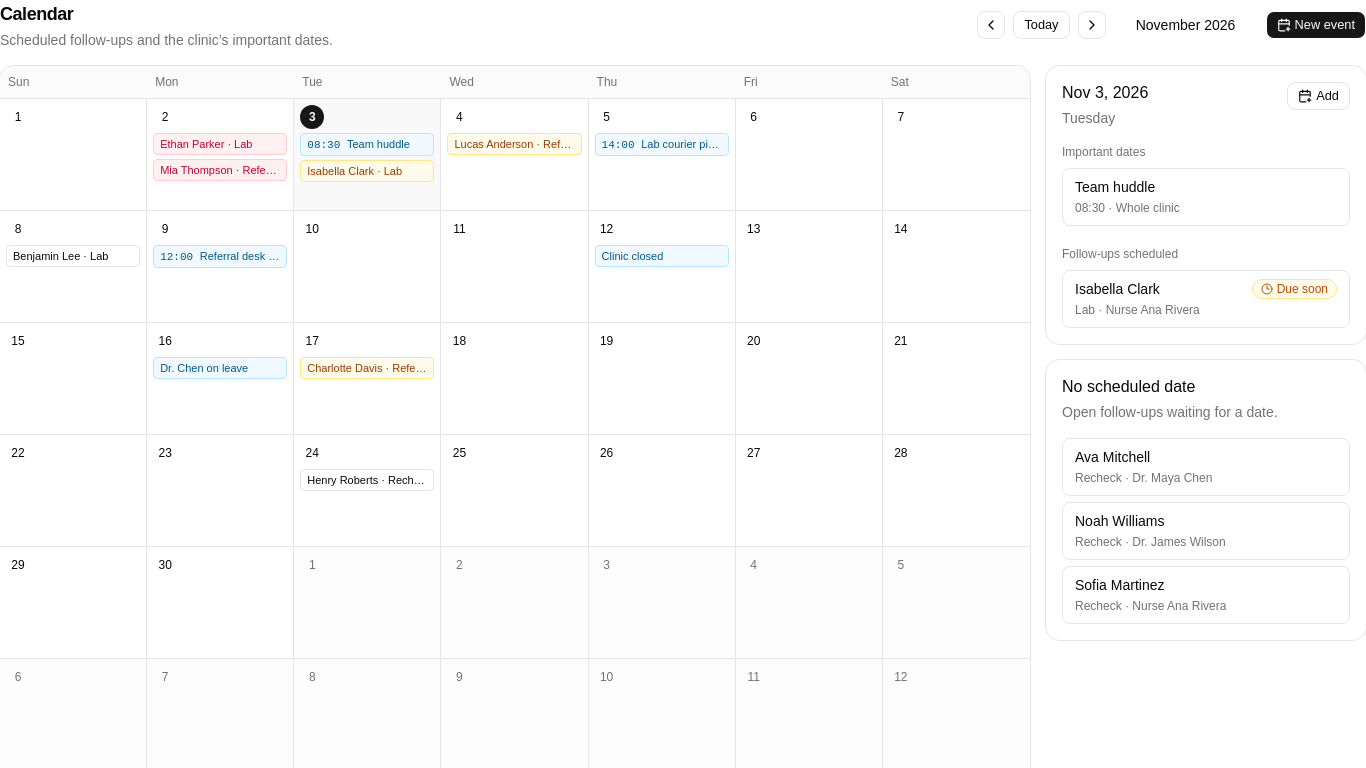
Scenario: Calendar › shows the sample month, today's important dates, and follow-ups without a date
The width and height of the screenshot is (1366, 768).
Expected: the heading "Calendar" is shown, left=0, top=4, right=73, bottom=24
Expected: the button "08:30 Team huddle" is shown, left=300, top=133, right=434, bottom=156
Click the button "New event": [1316, 25] box left=1266, top=11, right=1365, bottom=39
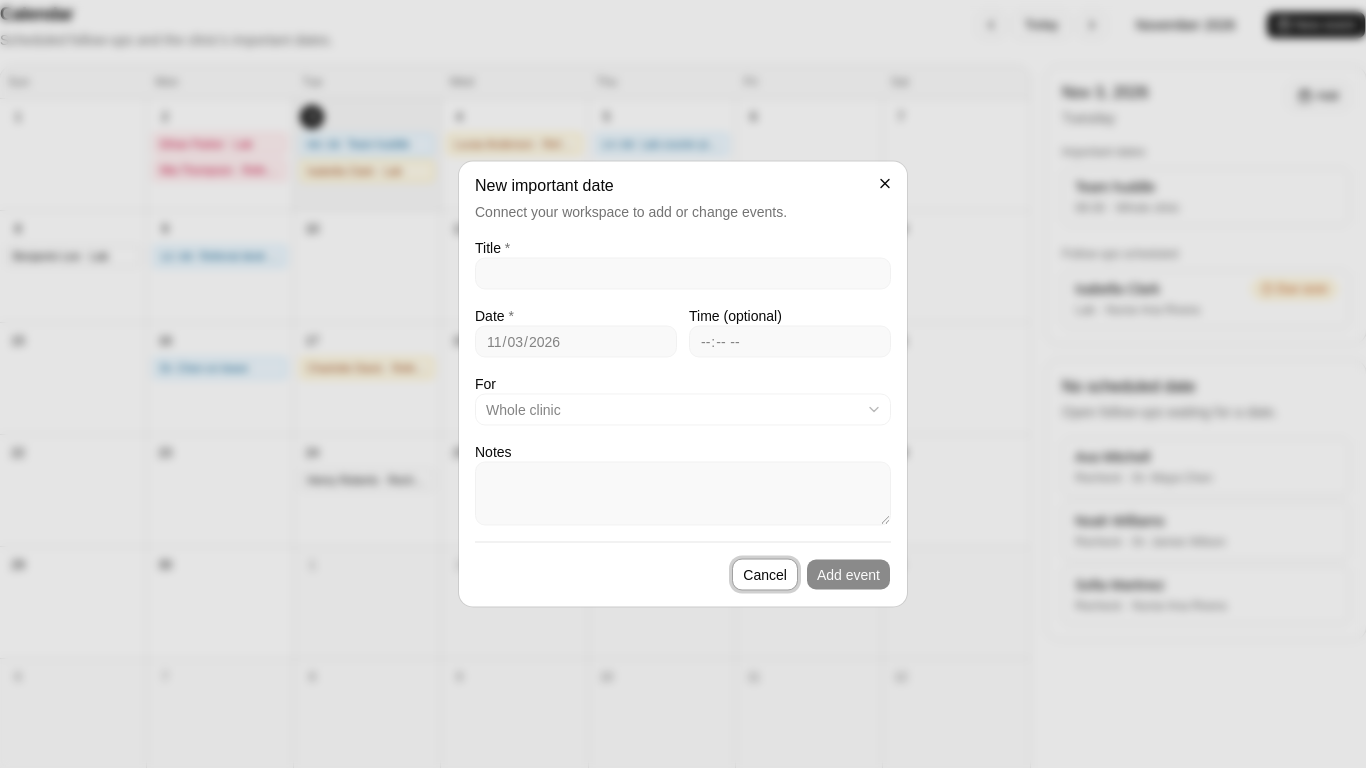
Now the text "Connect your workspace to add or change events." is shown, box left=475, top=204, right=787, bottom=220
Now the button "Add event" is disabled, box left=806, top=558, right=891, bottom=590
